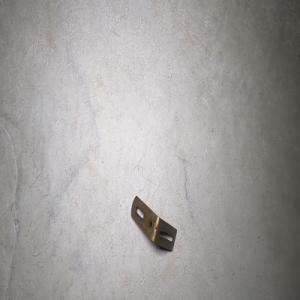MetalPart: (130, 194, 177, 252)
